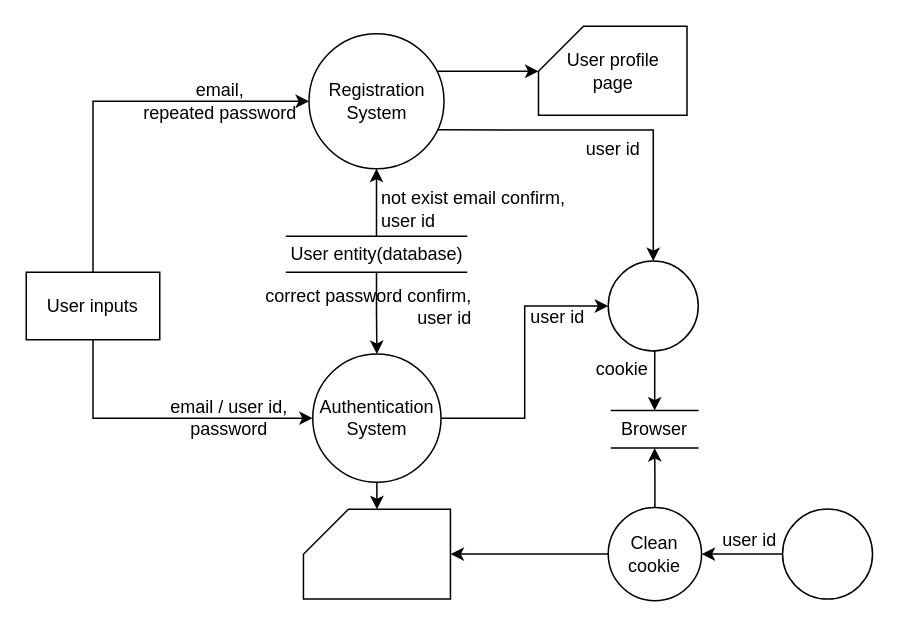
This 900x627 diagram has some shape labels left out. The shapes that lost their labels are listed below. From the top down, each one's centre as x and y in pixels, then its label:
point 652,305: Create cookie
point 376,553: Main page
point 827,553: Logout
